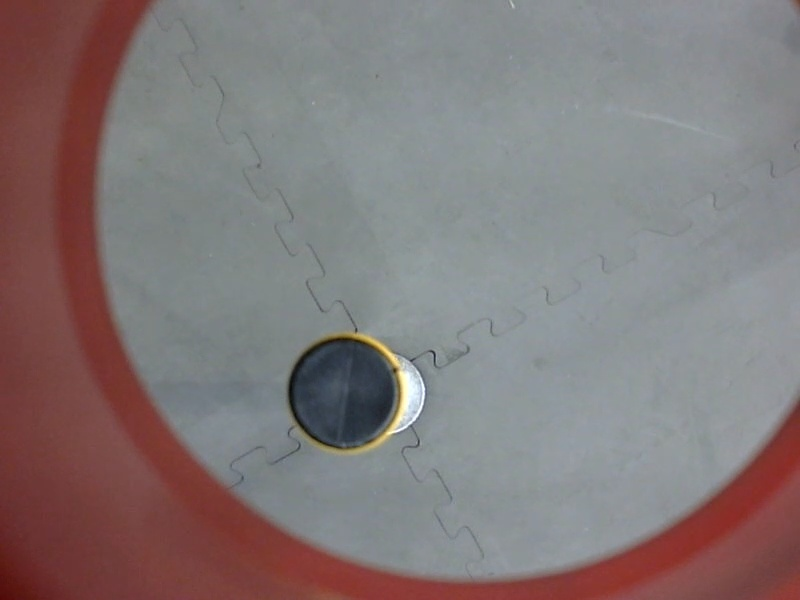tip: (274, 327, 414, 463)
